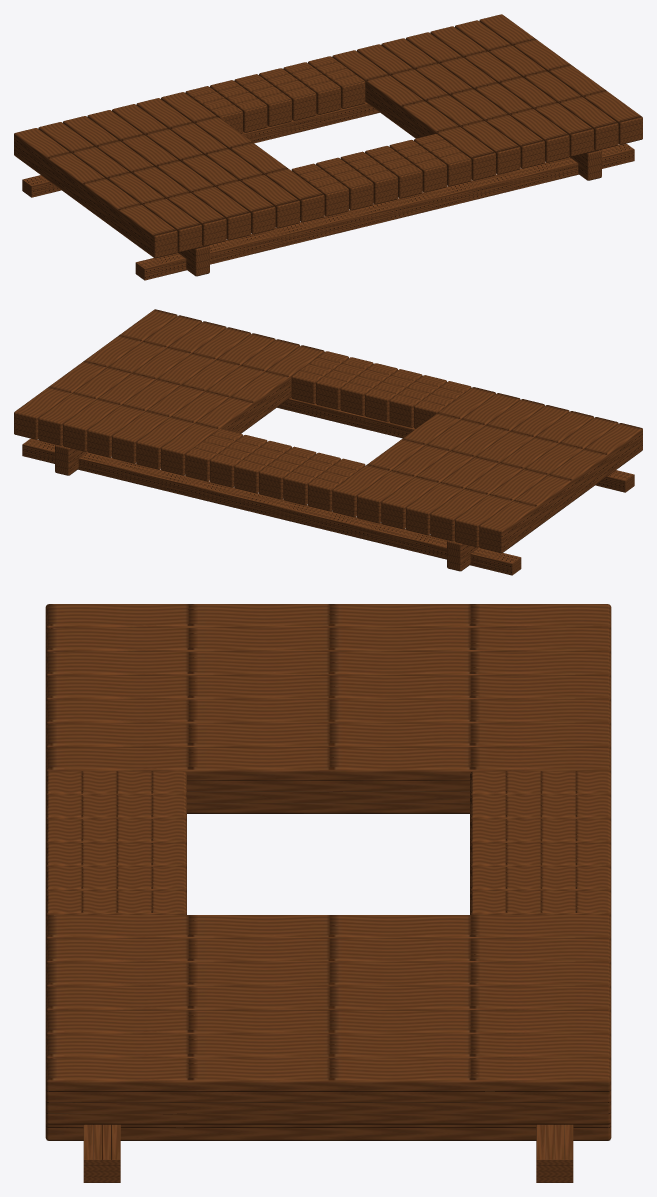
The model's file is fortified-compound-expansion-gatehouse-floor-b49c0410__27100.glb.
3 renders of one model, top to bottom at view 1: azimuth 30°, elevation 25°; view 2: azimuth 150°, elevation 25°; view 3: azimuth 270°, elevation 25°, orthographic. The views are drawn at different scales.
Visible parts, largest first — view 1: gatehouse-floor; view 2: gatehouse-floor; view 3: gatehouse-floor.
Boxes of the visible parts, x1,y1,x2,y2 form: gatehouse-floor: [14, 14, 642, 280]; gatehouse-floor: [14, 309, 642, 575]; gatehouse-floor: [45, 604, 611, 1182].
Bounding box in the file's own units: 4 × 0.3999 × 2.
1 material, 1 textured.
